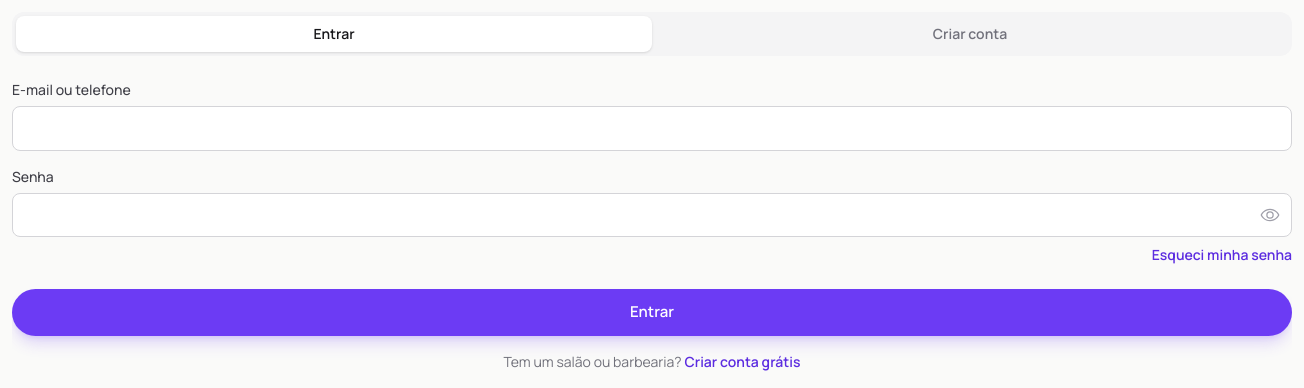
Scenario: LoginForm: 2FA da plataforma › senha certa com 2FA troca o formulário pela etapa do código (e some a senha da tela)
The image size is (1304, 388).
Type "dono@salao.com" into the field labelled "E-mail ou telefone" at [652, 128], box [12,106,1292,150]
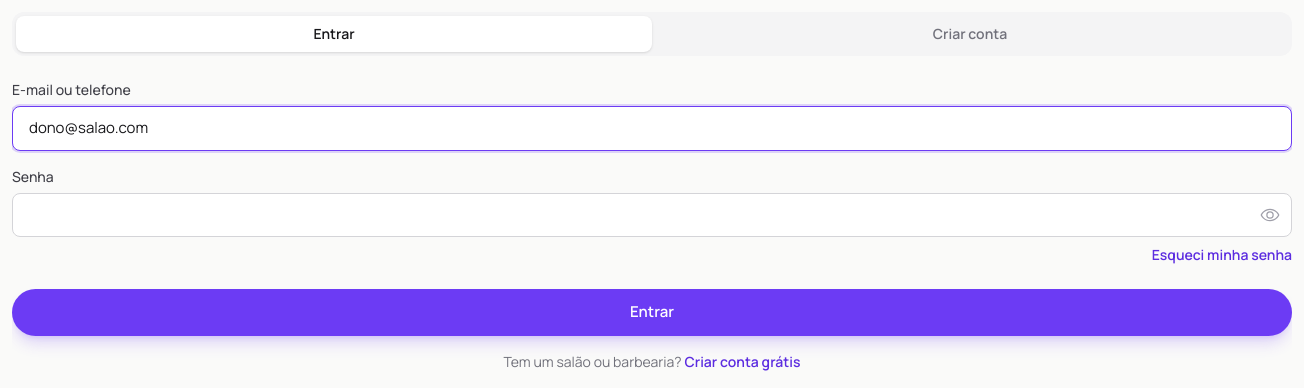
Type "senha-correta-123" into the password field labelled "Senha" at [652, 215], box [12,192,1292,237]
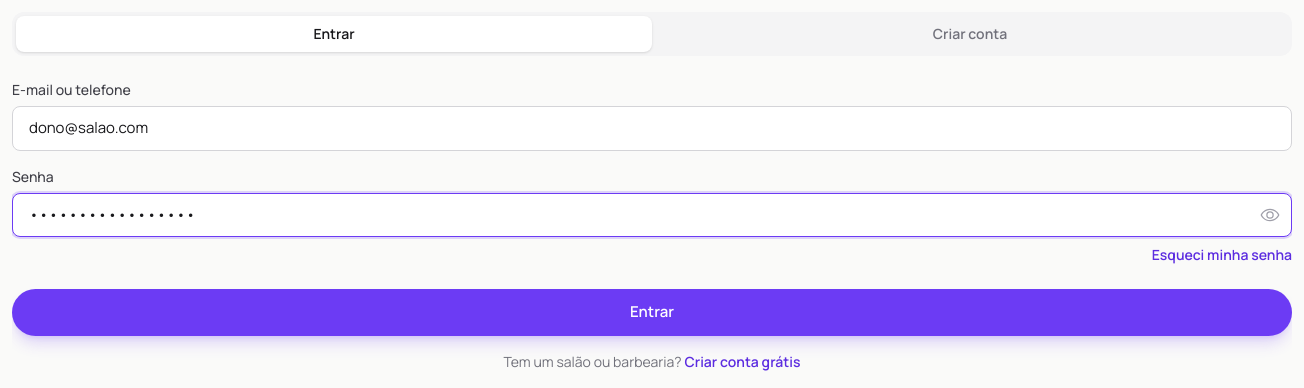
Click the button "Entrar" below "Esqueci minha senha" at [652, 312], box [12,289,1292,336]
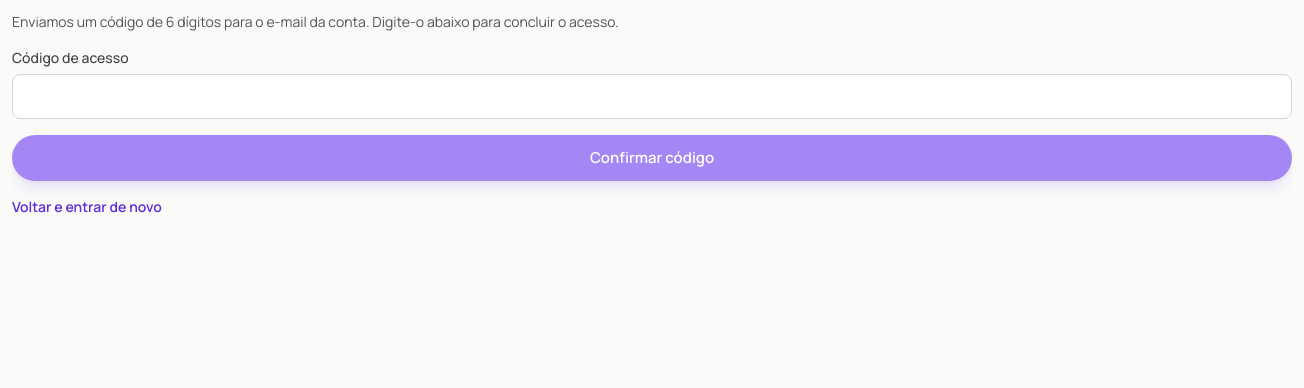
expect the field labelled "Código de acesso" is shown: met, box [12,74,1292,118]
expect the label labelled "Senha" is gone: met
expect the button "Confirmar código" is disabled: met, box [12,134,1292,181]
